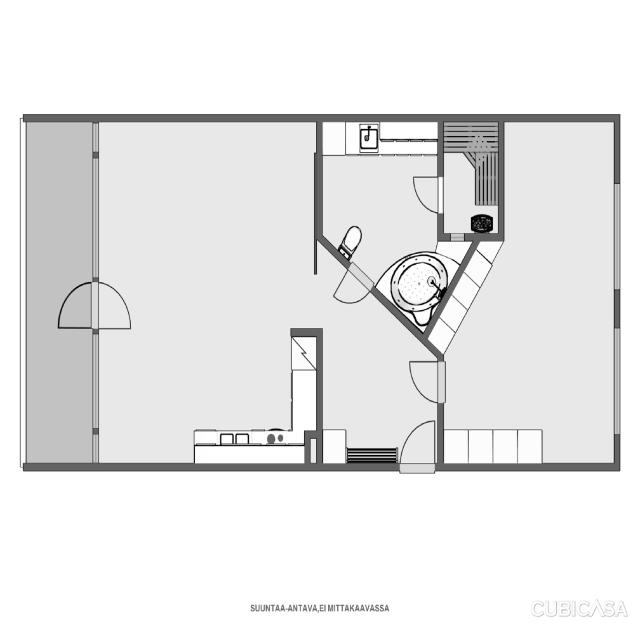door: (48, 281, 103, 329), (87, 284, 141, 332), (388, 361, 448, 401), (395, 422, 437, 473), (409, 175, 445, 212), (328, 274, 372, 302)
window: (90, 330, 101, 462), (92, 125, 101, 278), (614, 186, 623, 290), (613, 328, 622, 430)
zone: (97, 121, 315, 463), (500, 116, 623, 468), (321, 122, 439, 239), (440, 120, 500, 233)
